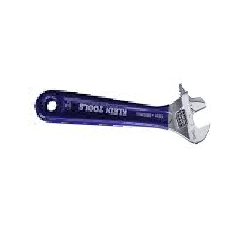Wrench: (25, 72, 223, 148)
